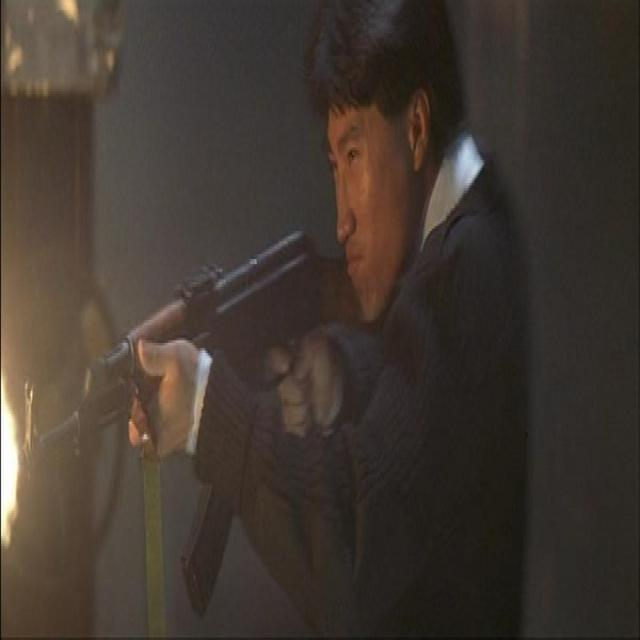rifle: (8, 214, 346, 625)
